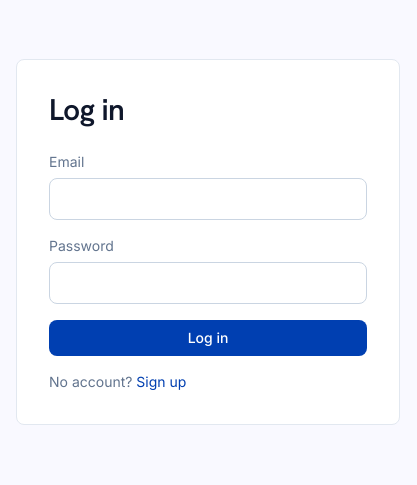
LoginPage › reports a failure to resend without losing the resend affordance
In the field labelled "Email": (208, 198) top-left (49, 178), bottom-right (367, 220), type "user@example.com"
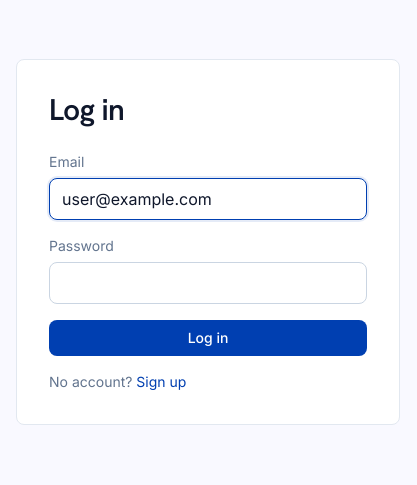
In the password field labelled "Password": (208, 282) top-left (49, 262), bottom-right (367, 304), type "password123"
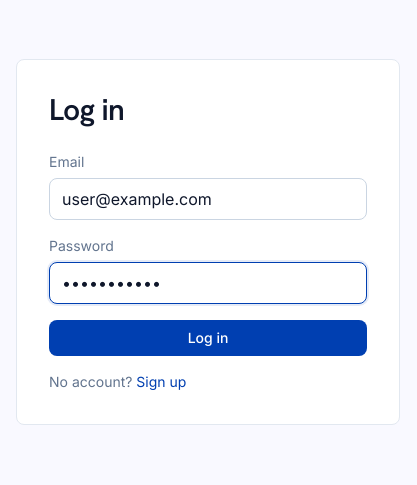
Click the button "Log in": (208, 338) top-left (49, 320), bottom-right (367, 356)
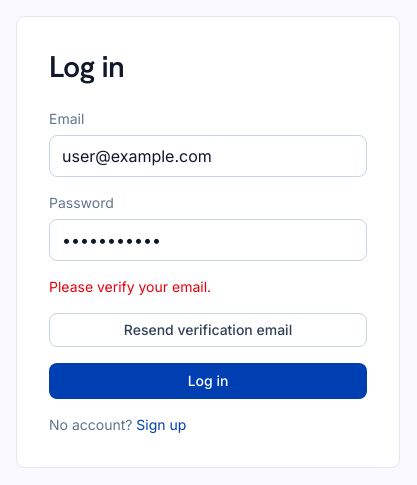
Click the button "Resend verification email": (208, 330) top-left (49, 312), bottom-right (367, 346)
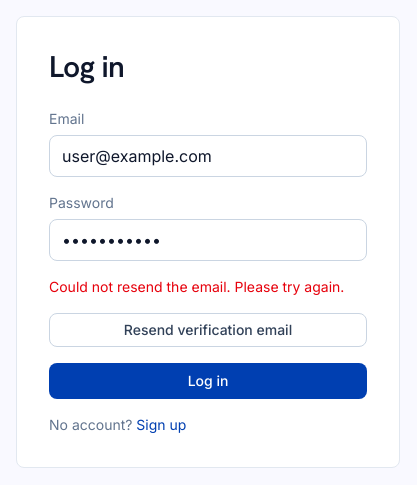
Now the button "Resend verification email" is shown, box top-left (49, 312), bottom-right (367, 346)
Now the text "Could not resend the email. Please try again." is shown, box top-left (49, 276), bottom-right (367, 296)
